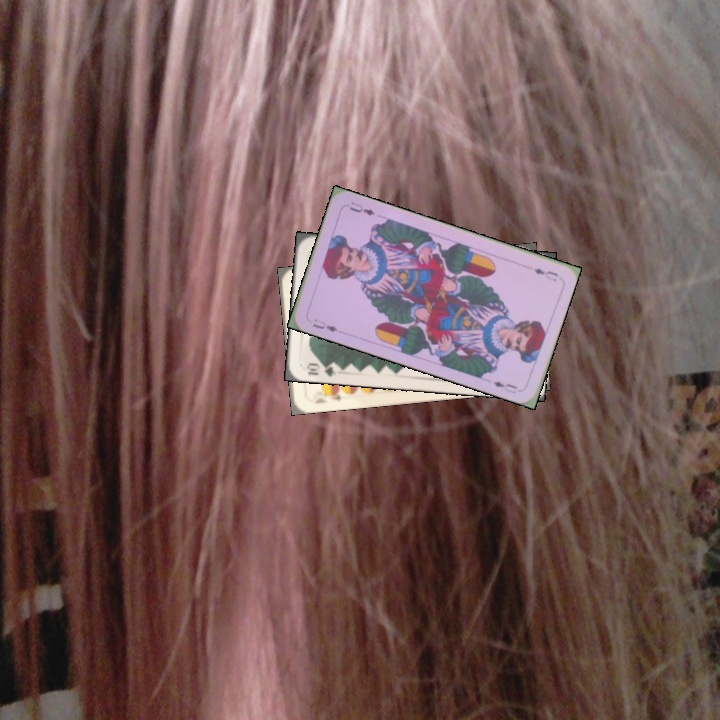E10: (310, 386, 344, 406)
EU: (309, 315, 340, 335), (530, 264, 561, 284)
G10: (302, 359, 341, 379)
